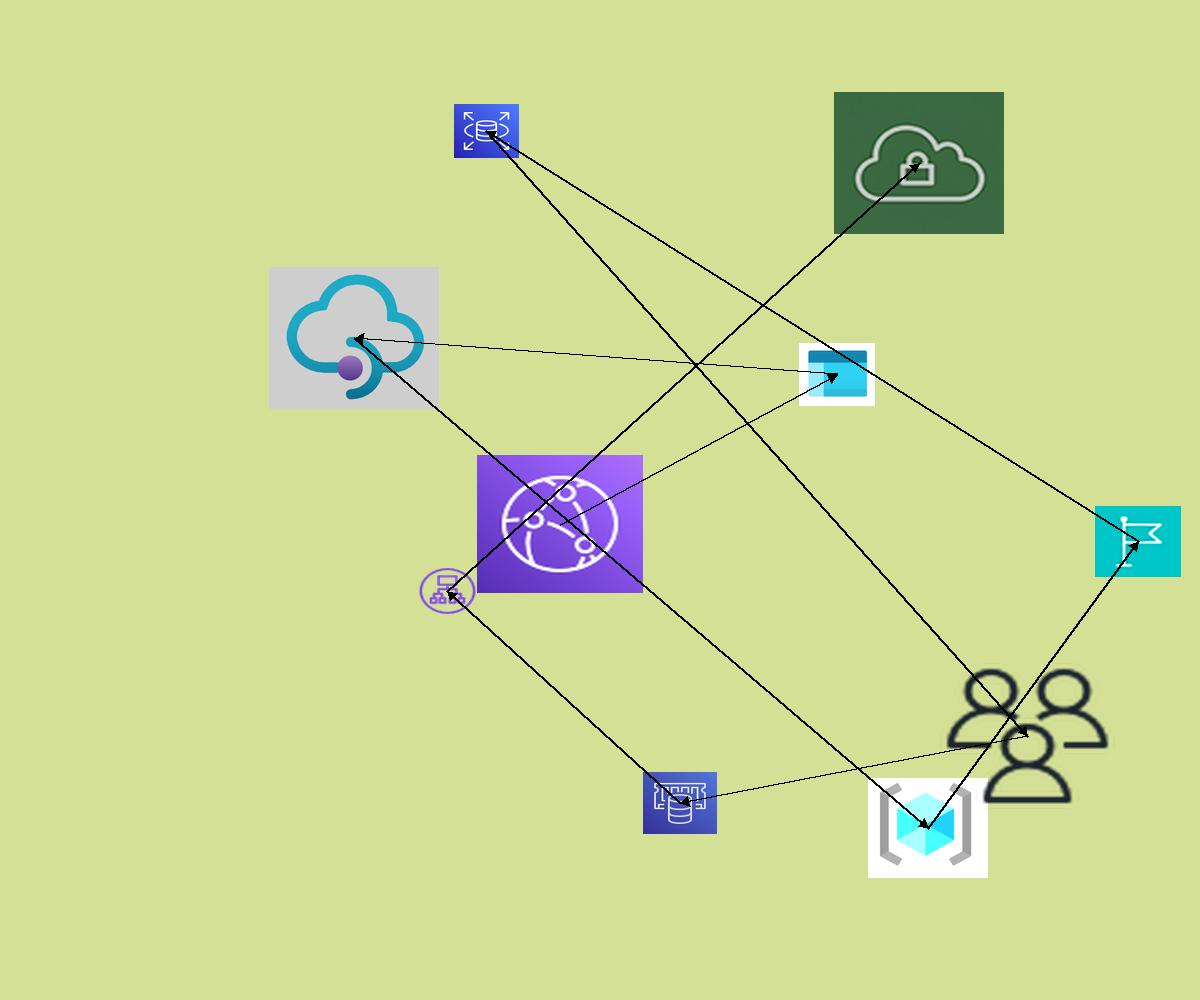AWS-CloudFront: (477, 455, 643, 593)
AWS-ElastiCache: (643, 772, 717, 834)
AWS-Private_vpc: (834, 92, 1004, 234)
AWS-RDS: (454, 104, 519, 158)
AWS-Region: (1095, 506, 1181, 577)
AWS-Res_Elastic-Load-Balancing_Application-Load-Balancer: (417, 566, 478, 616)
AWS-Res_Users: (940, 663, 1115, 809)
Azure_api_gateway: (269, 267, 439, 409)
Azure_management-portal: (799, 343, 875, 406)
Azure_resource_group: (868, 778, 988, 878)
